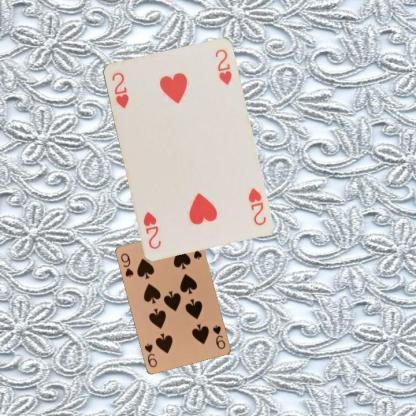2h: (245, 185, 267, 226), (109, 70, 130, 110)
9s: (119, 251, 136, 279), (210, 322, 226, 351)
